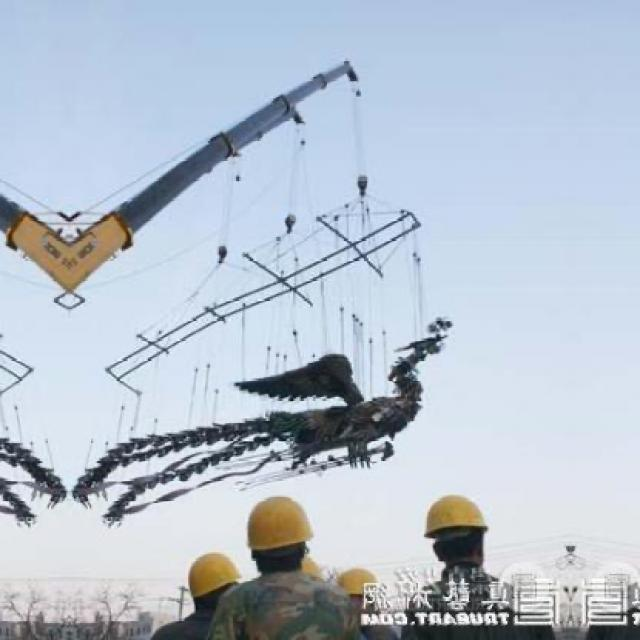helmet: (238, 483, 322, 582), (420, 483, 500, 574), (182, 540, 256, 620), (335, 560, 384, 614)
